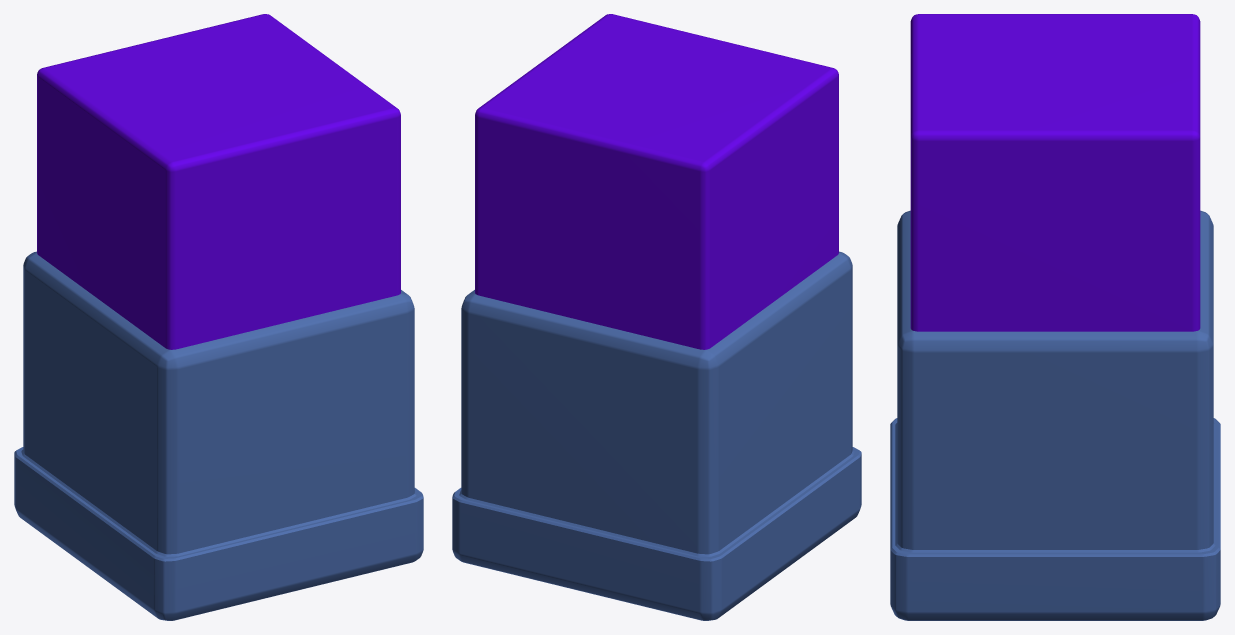
3 views of the same model, side by side, from view 1: azimuth 30°, elevation 25°; view 2: azimuth 150°, elevation 25°; view 3: azimuth 270°, elevation 25° (orthographic). The views are drawn at different scales.
Visible parts, largest first — view 1: bottom_high, glass_high; view 2: bottom_high, glass_high; view 3: bottom_high, glass_high.
Part boxes in pixels (x1,y1,x2,y2): bottom_high: (14,251,423,620); glass_high: (37,14,400,349); bottom_high: (452,251,861,620); glass_high: (475,14,838,349); bottom_high: (890,210,1220,620); glass_high: (910,14,1200,331).
Bounding box in the file's own units: 1.57 × 2.53 × 1.56.
